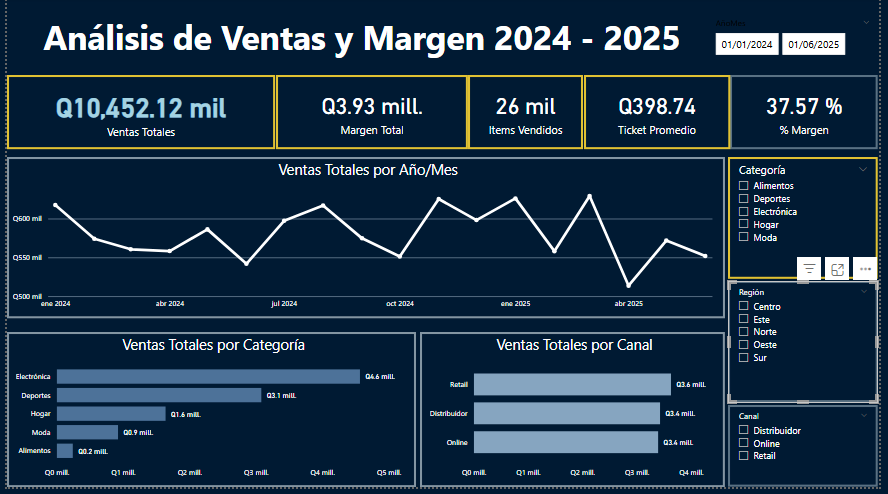

What the dashboard file says about the page in this screenshot:
{"tool":"powerbi","page":{"name":"Indicadores clave de desempeño (KPI)","canvas":[1280,720],"ordinal":0},"visuals":[{"type":"card","fields":{"Values":["ventas_limpias.Ventas Totales"]},"box":[0.3,114,393.8,108.7],"z":0},{"type":"card","fields":{"Values":["ventas_limpias.Margen Total"]},"box":[394.9,114.6,282.1,108.7],"z":1000},{"type":"card","fields":{"Values":["ventas_limpias.% Margen"]},"box":[1062.5,114.6,217.5,108.7],"z":2000},{"type":"card","fields":{"Values":["ventas_limpias.Items Vendidos"]},"box":[677.7,114.6,169,108.7],"z":3000},{"type":"card","fields":{"Values":["ventas_limpias.Ticket Promedio"]},"box":[847.4,114.6,214.5,108.7],"z":4000},{"type":"lineChart","title":"Ventas Totales por Año/Mes","fields":{"Category":["ventas_limpias.AñoMes"],"Y":["ventas_limpias.Ventas Totales"]},"box":[0,235.1,1055,236.6],"z":5000},{"type":"barChart","fields":{"Category":["ventas_limpias.Categoría"],"Y":["ventas_limpias.Ventas Totales"]},"box":[0,492.2,601,227.8],"z":6000},{"type":"barChart","fields":{"Category":["ventas_limpias.Canal"],"Y":["ventas_limpias.Ventas Totales"]},"box":[606.9,492.2,448.2,227.8],"z":7000},{"type":"slicer","fields":{"Values":["ventas_limpias.AñoMes"]},"box":[1028.6,24.3,251.4,74.3],"z":8000},{"type":"slicer","fields":{"Values":["ventas_limpias.Categoría"]},"box":[1059.4,235.1,220.4,179.3],"z":9000},{"type":"slicer","fields":{"Values":["ventas_limpias.Región"]},"box":[1059.4,418,220.4,178],"z":10000},{"type":"slicer","fields":{"Values":["ventas_limpias.Canal"]},"box":[1059.4,599.5,220.4,120.5],"z":11000},{"type":"textbox","title":"Análisis de Ventas y Margen 2024 - 2025","box":[35.3,25,972.7,74.9],"z":12000}]}

Visuals, with their boxes in screenshot pixels (x1, y1, x2, y2), scaled from the page's 1280x720 canvas onto the 888x494 screenshot:
card - ventas_limpias.Ventas Totales: Rect(0, 78, 273, 153)
card - ventas_limpias.Margen Total: Rect(274, 79, 470, 153)
card - ventas_limpias.% Margen: Rect(737, 79, 887, 153)
card - ventas_limpias.Items Vendidos: Rect(470, 79, 587, 153)
card - ventas_limpias.Ticket Promedio: Rect(588, 79, 737, 153)
"Ventas Totales por Año/Mes" lineChart: Rect(0, 161, 732, 324)
barChart - ventas_limpias.Categoría x ventas_limpias.Ventas Totales: Rect(0, 338, 417, 493)
barChart - ventas_limpias.Canal x ventas_limpias.Ventas Totales: Rect(421, 338, 732, 493)
slicer - ventas_limpias.AñoMes: Rect(714, 17, 887, 68)
slicer - ventas_limpias.Categoría: Rect(735, 161, 887, 284)
slicer - ventas_limpias.Región: Rect(735, 287, 887, 409)
slicer - ventas_limpias.Canal: Rect(735, 411, 887, 493)
"Análisis de Ventas y Margen 2024 - 2025" textbox: Rect(24, 17, 699, 69)
